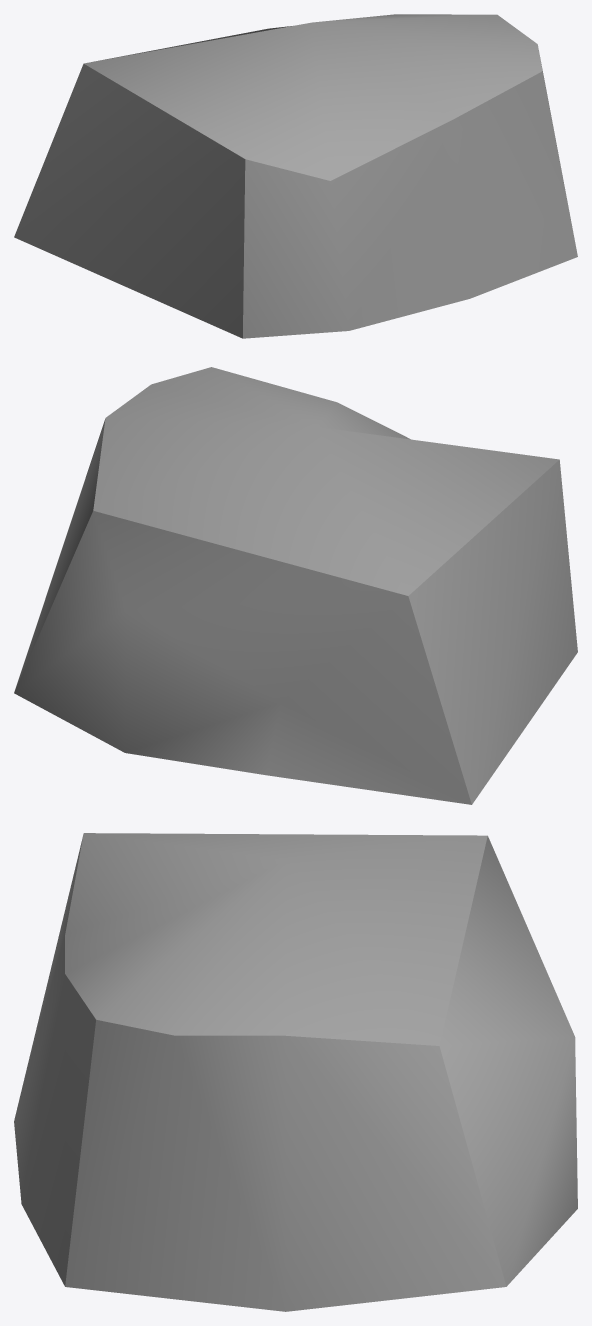
Rendered from Stone002.fbx.
3 renders of one model, top to bottom at view 1: azimuth 30°, elevation 25°; view 2: azimuth 150°, elevation 25°; view 3: azimuth 270°, elevation 25°, orthographic. The views are drawn at different scales.
Parts seen in each view (by area): view 1: Box058; view 2: Box058; view 3: Box058.
Boxes of the visible parts, x1,y1,x2,y2 form: Box058: [14, 14, 577, 338]; Box058: [14, 367, 577, 804]; Box058: [14, 833, 577, 1311].
Bounding box in the file's own units: 45.38 × 22.07 × 36.75.
1 material, 1 textured.
